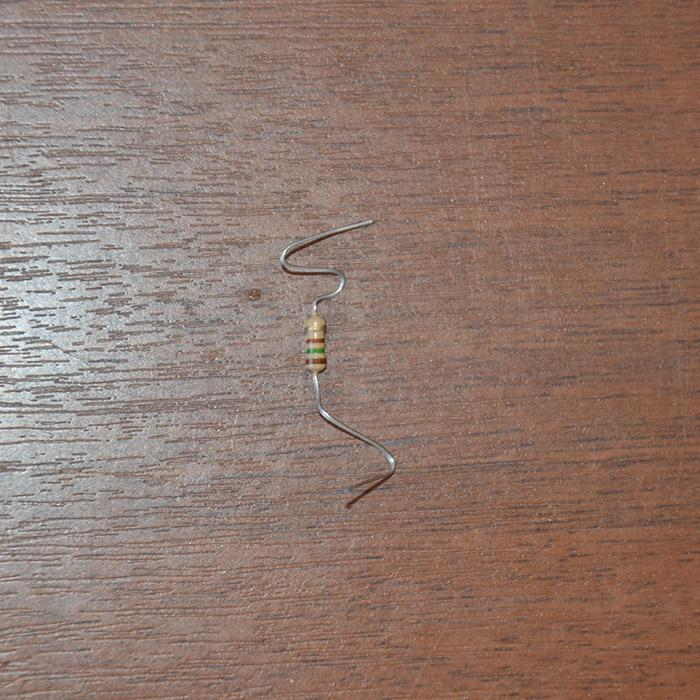resistor: (303, 312, 327, 372)
